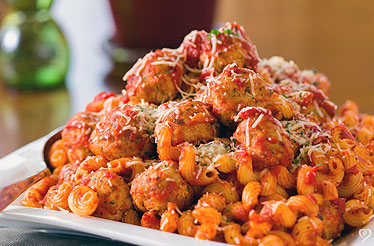meatballs: (200, 63, 283, 124), (122, 44, 188, 104), (127, 154, 194, 212), (88, 104, 154, 158), (232, 110, 294, 167), (195, 24, 266, 71), (154, 99, 215, 145)
